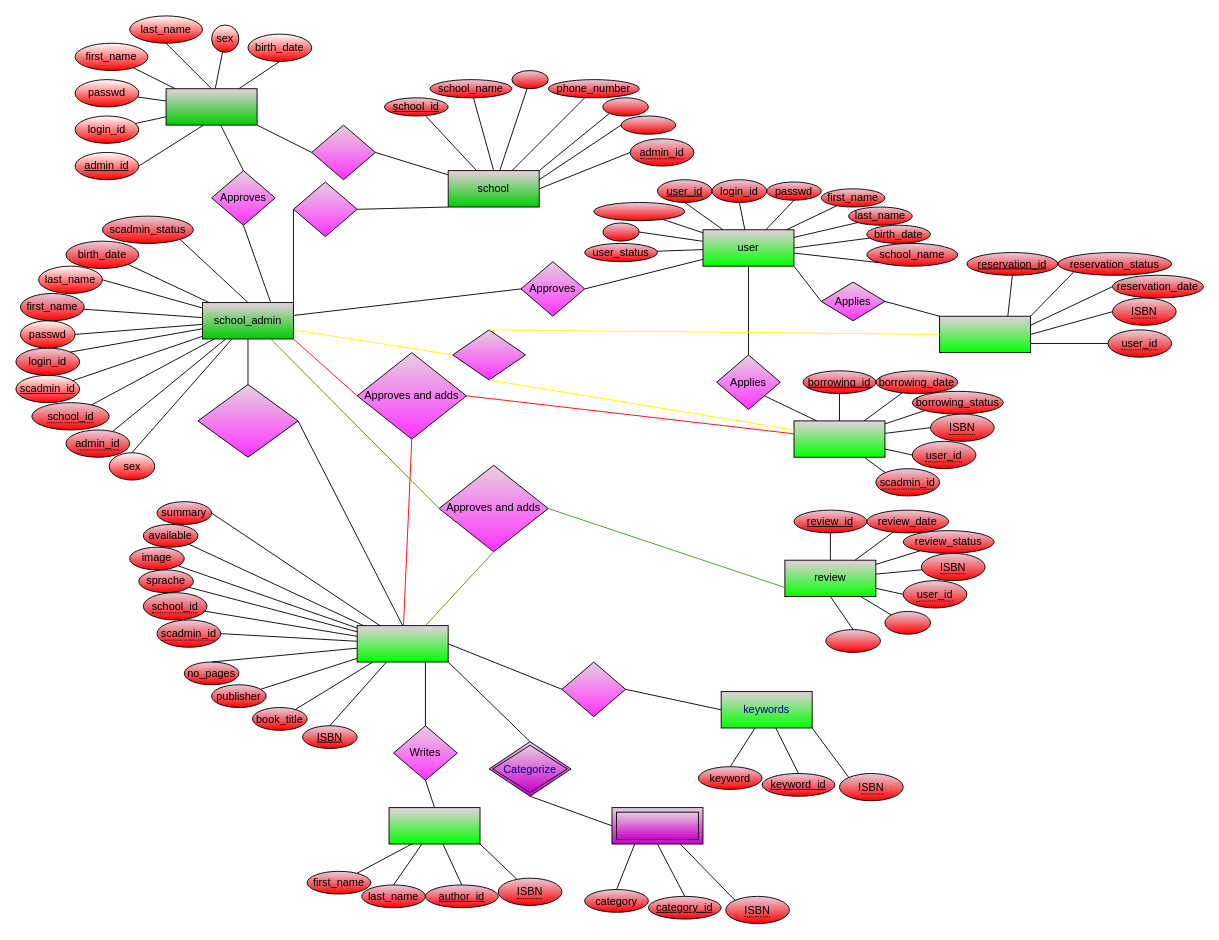
Some shapes in this 1219 by 940 pixel diagram are drawn without their labels. The centre of each missing label's shape, as x and y in pixels:
addrss: (x=648, y=124)
administrator: (x=211, y=106)
author: (x=434, y=825)
Becomes: (x=489, y=354)
book: (x=402, y=643)
books_borrowed: (x=639, y=211)
borrowing: (x=839, y=438)
cateogory: (x=657, y=825)
city: (x=529, y=79)
email: (x=625, y=106)
Enters: (x=343, y=152)
Enters/Modifies: (x=247, y=420)
Handles: (x=325, y=209)
job: (x=620, y=231)
Keys: (x=593, y=689)
likert: (x=852, y=640)
reservation: (x=985, y=334)
txt: (x=907, y=622)
